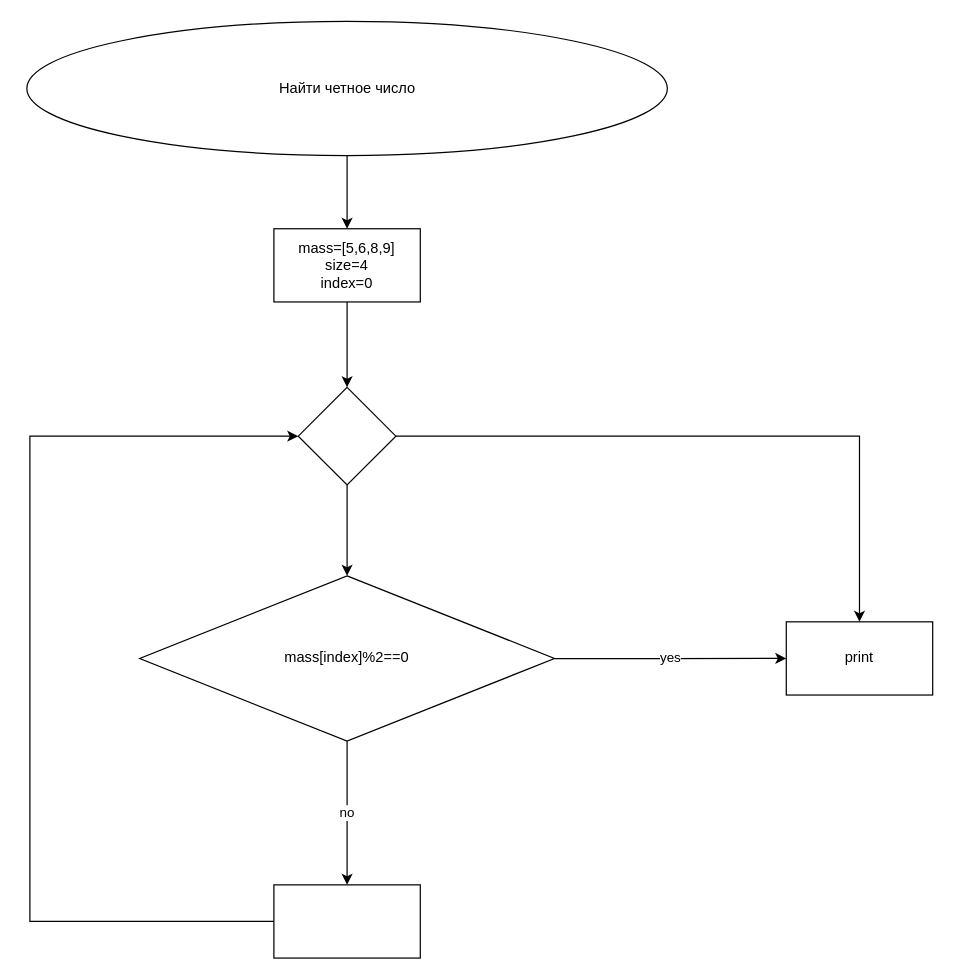
This 954x980 diagram has some shape labels left out. Here are the shapes that lost their labels. From the top down, the centre of each, then its label:
point (346, 435): index<size
point (346, 921): index=index+1
